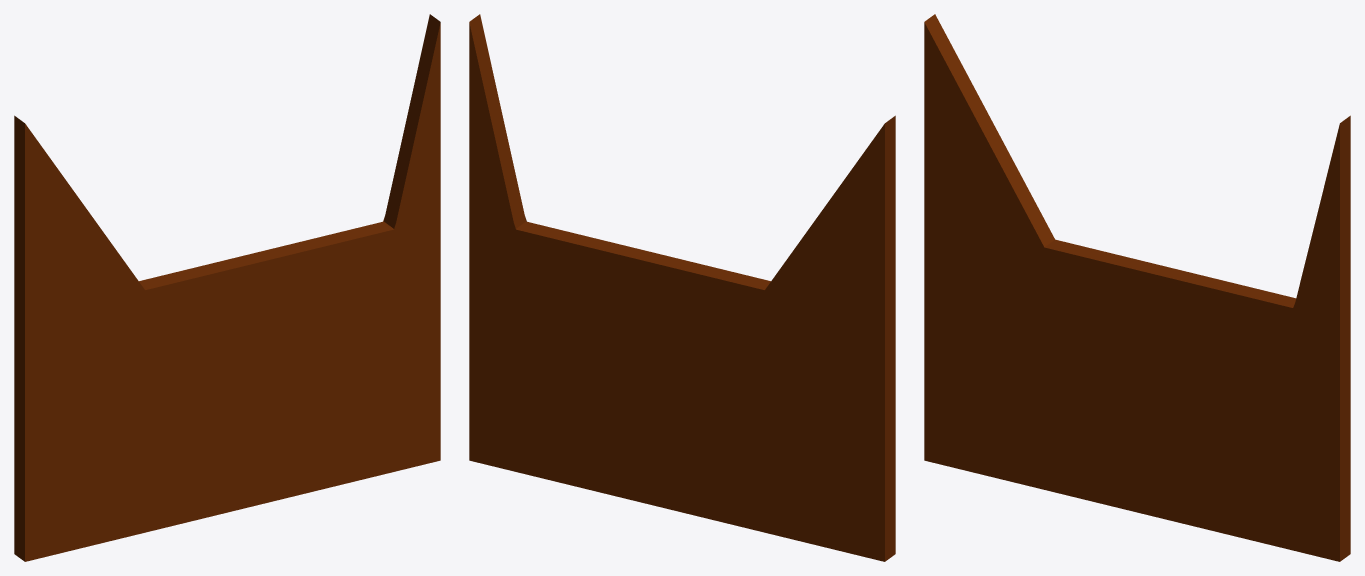
File: Open_Wall_Dining.glb
3 renders of one model, left to right at view 1: azimuth 30°, elevation 25°; view 2: azimuth 150°, elevation 25°; view 3: azimuth 330°, elevation 25°, orthographic.
Visible parts, largest first — view 1: Plane.012; view 2: Plane.012; view 3: Plane.012.
Boxes of the visible parts, <box> form: Plane.012: <box>14,14,440,561</box>; Plane.012: <box>469,14,895,561</box>; Plane.012: <box>924,14,1350,561</box>.
Size of the model in its own units: 2.28 by 2.3 by 0.1029.
Materials: 1 (1 with a texture image).
